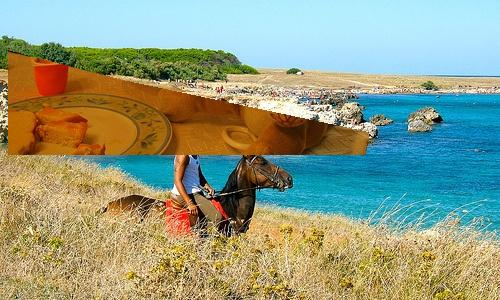tampered: (9, 51, 369, 155)
